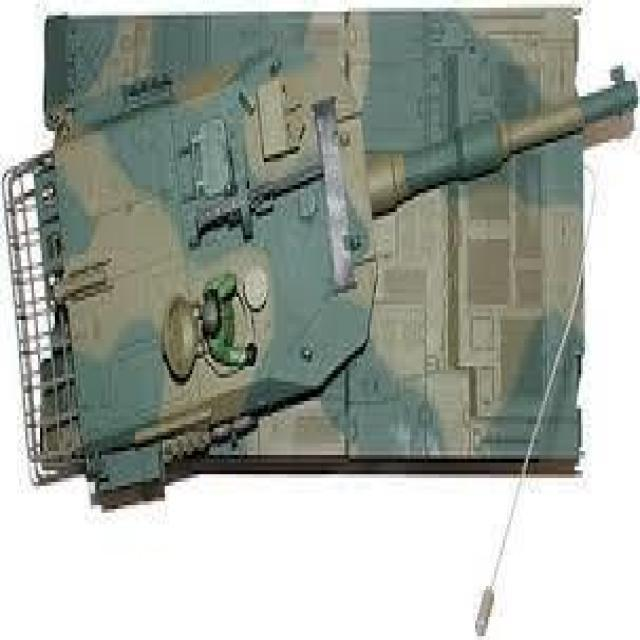MIL_MBT: (19, 17, 608, 484)
